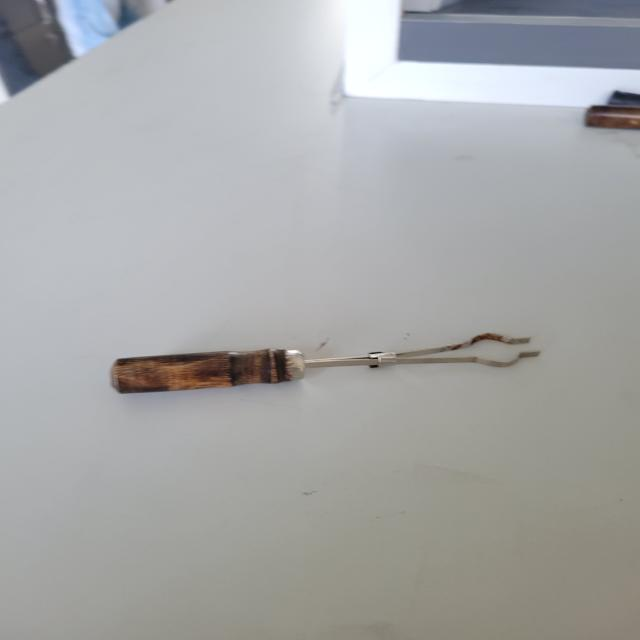TestTube_Holder: (79, 297, 563, 463)
